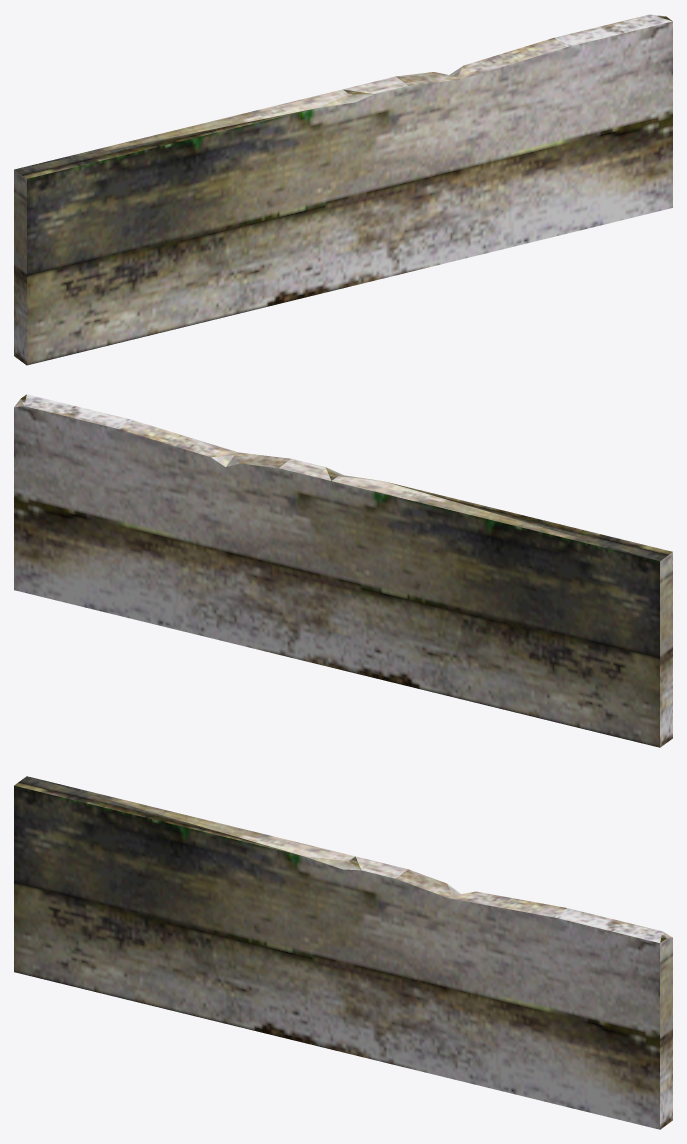
Rendered from Urban_PlackardSlabWoodPatched_Alternate_821124_Model.fbx.
The picture shows the model from 3 angles, top to bottom: view 1: azimuth 30°, elevation 25°; view 2: azimuth 150°, elevation 25°; view 3: azimuth 330°, elevation 25°; orthographic projection.
Parts seen in each view (by area): view 1: Urban_PlackardSlabWoodPatched_Alternate_821124_Mesh; view 2: Urban_PlackardSlabWoodPatched_Alternate_821124_Mesh; view 3: Urban_PlackardSlabWoodPatched_Alternate_821124_Mesh.
Part boxes in pixels (<box>): Urban_PlackardSlabWoodPatched_Alternate_821124_Mesh: <box>14,14,672,365</box>; Urban_PlackardSlabWoodPatched_Alternate_821124_Mesh: <box>14,394,672,747</box>; Urban_PlackardSlabWoodPatched_Alternate_821124_Mesh: <box>14,776,672,1129</box>.
Bounding box in the file's own units: 2.9 × 0.8 × 0.1.
